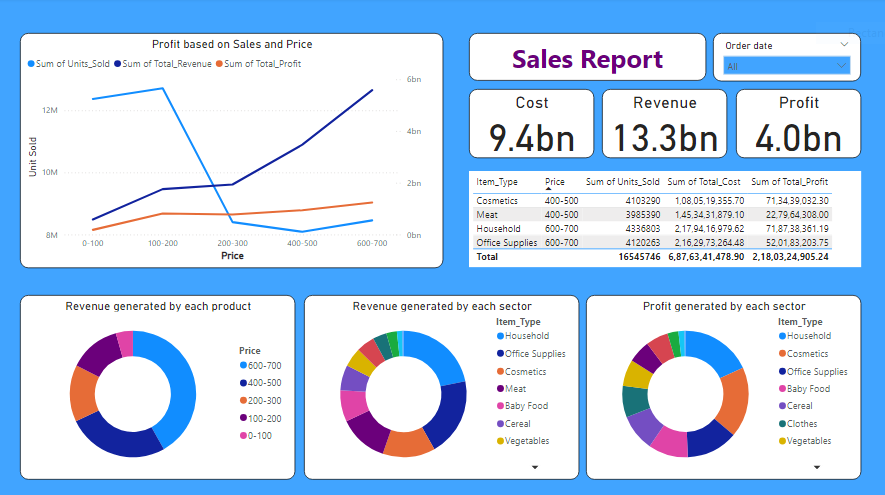

Layout of this report page (visuals, bound fields, positions):
{"tool":"powerbi","page":{"name":"Page 1","canvas":[1280,720],"ordinal":0},"visuals":[{"type":"lineChart","title":"Profit based on Sales and Price","fields":{"Category":["Sales_record.Price"],"Y":["Sum(Sales_record.Units_Sold)"],"Y2":["Sum(Sales_record.Total_Revenue)","Sum(Sales_record.Total_Profit)"]},"box":[28.9,50.6,611.6,339.8],"z":0},{"type":"donutChart","title":"Revenue generated by each product","fields":{"Category":["Sales_record.Price"],"Y":["Sum(Sales_record.Total_Revenue)"]},"box":[28.9,429.4,397.6,267.5],"z":1000},{"type":"donutChart","title":"Revenue generated by each sector","fields":{"Category":["Sales_record.Item_Type"],"Y":["Sum(Sales_record.Total_Revenue)"]},"box":[439.5,429.4,397.6,267.5],"z":2000},{"type":"donutChart","title":"Profit generated by each sector","fields":{"Category":["Sales_record.Item_Type"],"Y":["Sum(Sales_record.Total_Profit)"]},"box":[847.2,429.4,397.6,267.5],"z":3000},{"type":"slicer","title":"df","fields":{"Values":["Sales_record.Order_date"]},"box":[1030.8,50.6,214,70],"z":3002},{"type":"card","title":"Profit","fields":{"Values":["Sum(Sales_record.Total_Profit)"]},"box":[1064.1,131.6,180.7,99.8],"z":3003},{"type":"card","title":"Cost","fields":{"Values":["Sum(Sales_record.Total_Cost)"]},"box":[678.1,131.6,180.7,99.8],"z":3004},{"type":"card","title":"Revenue","fields":{"Values":["Sum(Sales_record.Total_Revenue)"]},"box":[870.4,131.6,180.7,99.8],"z":3005},{"type":"tableEx","fields":{"Values":["Sales_record.Item_Type","Sales_record.Price","Sum(Sales_record.Units_Sold)","Sum(Sales_record.Total_Cost)","Sum(Sales_record.Total_Profit)"]},"box":[678.5,250.8,567.1,139.3],"z":3006},{"type":"textbox","box":[678.1,50.6,342.7,69.4],"z":3007}]}

Visuals, with their boxes in screenshot pixels (x1, y1, x2, y2), scaled from the page's 1280x720 canvas onto the 885x495 screenshot:
"Profit based on Sales and Price" lineChart: x1=20, y1=35, x2=443, y2=268
"Revenue generated by each product" donutChart: x1=20, y1=295, x2=295, y2=479
"Revenue generated by each sector" donutChart: x1=304, y1=295, x2=579, y2=479
"Profit generated by each sector" donutChart: x1=586, y1=295, x2=861, y2=479
"df" slicer: x1=713, y1=35, x2=861, y2=83
"Profit" card: x1=736, y1=90, x2=861, y2=159
"Cost" card: x1=469, y1=90, x2=594, y2=159
"Revenue" card: x1=602, y1=90, x2=727, y2=159
tableEx - Sales_record.Item_Type x Sales_record.Price: x1=469, y1=172, x2=861, y2=268
textbox: x1=469, y1=35, x2=706, y2=82
